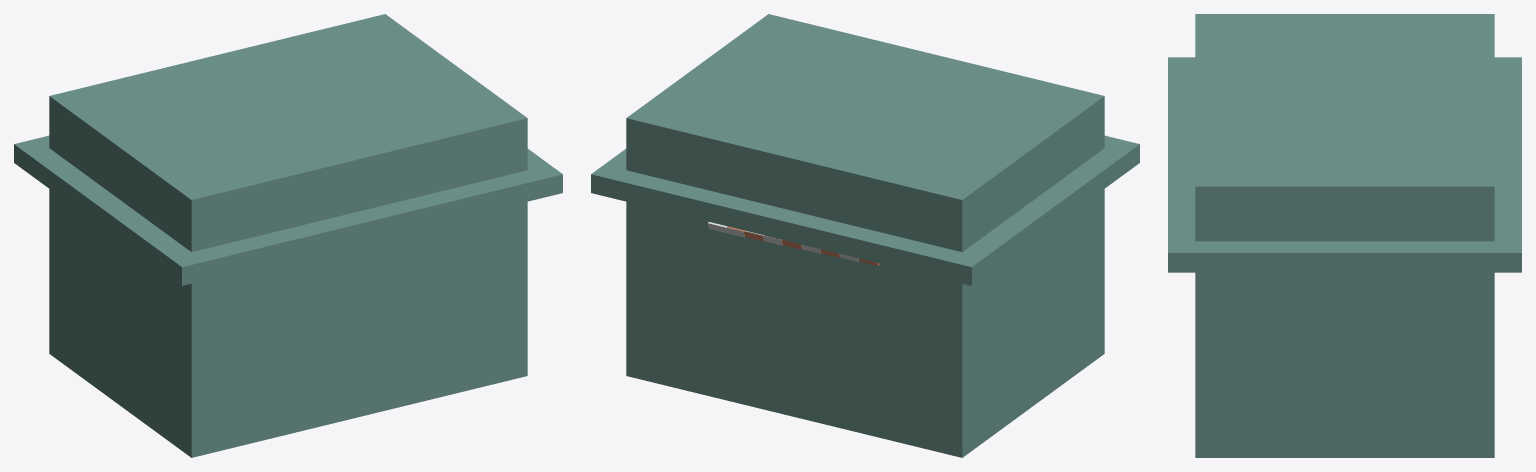
Rendered from kiosk.glb.
3 views of the same model, side by side, from view 1: azimuth 30°, elevation 25°; view 2: azimuth 150°, elevation 25°; view 3: azimuth 270°, elevation 25° (orthographic). The views are drawn at different scales.
Parts seen in each view (by area): view 1: Cube, Cube.004; view 2: Cube, Cube.004; view 3: Cube, Cube.004.
Boxes of the visible parts, box(x1,y1,x2,y2) form: Cube: box(49, 14, 527, 457); Cube.004: box(14, 135, 562, 285); Cube: box(626, 14, 1104, 457); Cube.004: box(591, 135, 1139, 285); Cube: box(1195, 14, 1494, 457); Cube.004: box(1168, 57, 1521, 272).
Size of the model in its own units: 6.8 by 4.4 by 5.2.
